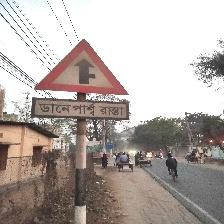Side-road-right: (32, 39, 131, 120)
